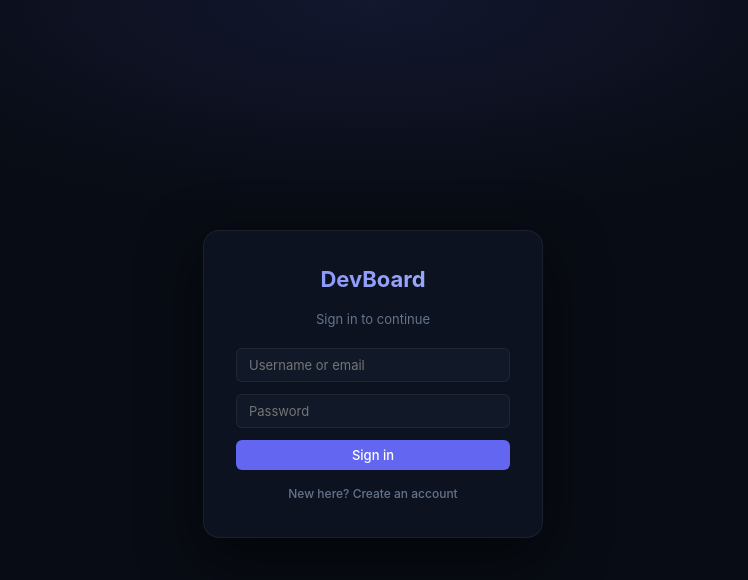
Scenario: LoginPage — behaviour › shows an error message when login fails
Type "alice" into the field with placeholder "Username or email" at (373, 365), box x1=236 y1=348 x2=510 y2=382
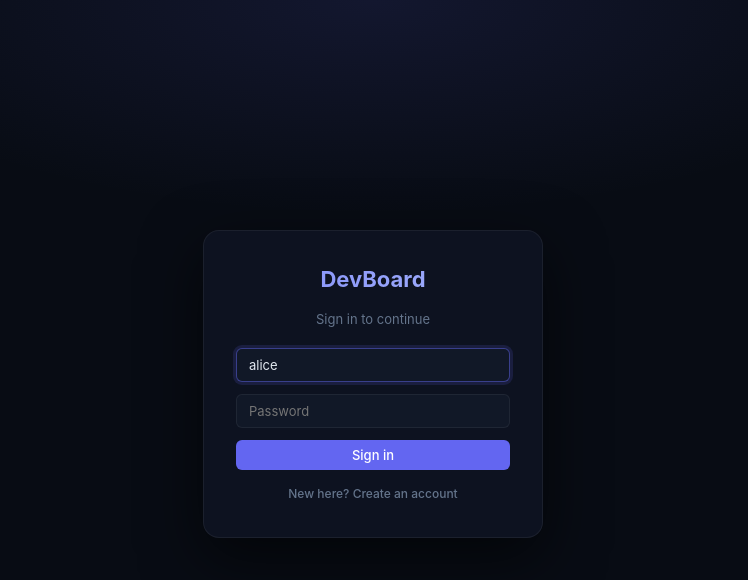
Type "wrongpass" into the password field with placeholder "Password" at (373, 411), box x1=236 y1=394 x2=510 y2=428
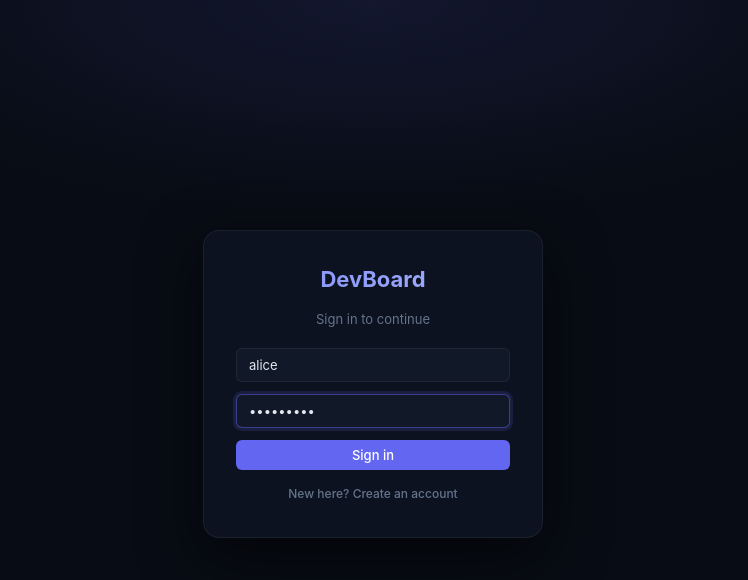
Click the button "Sign in" at (373, 455), box x1=236 y1=440 x2=510 y2=470
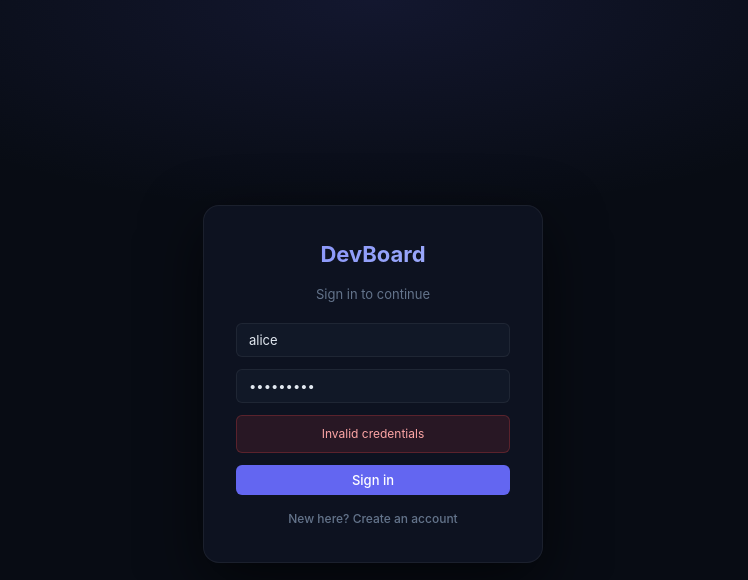
Expected: the text "Invalid credentials" is shown, x1=236 y1=415 x2=510 y2=453
